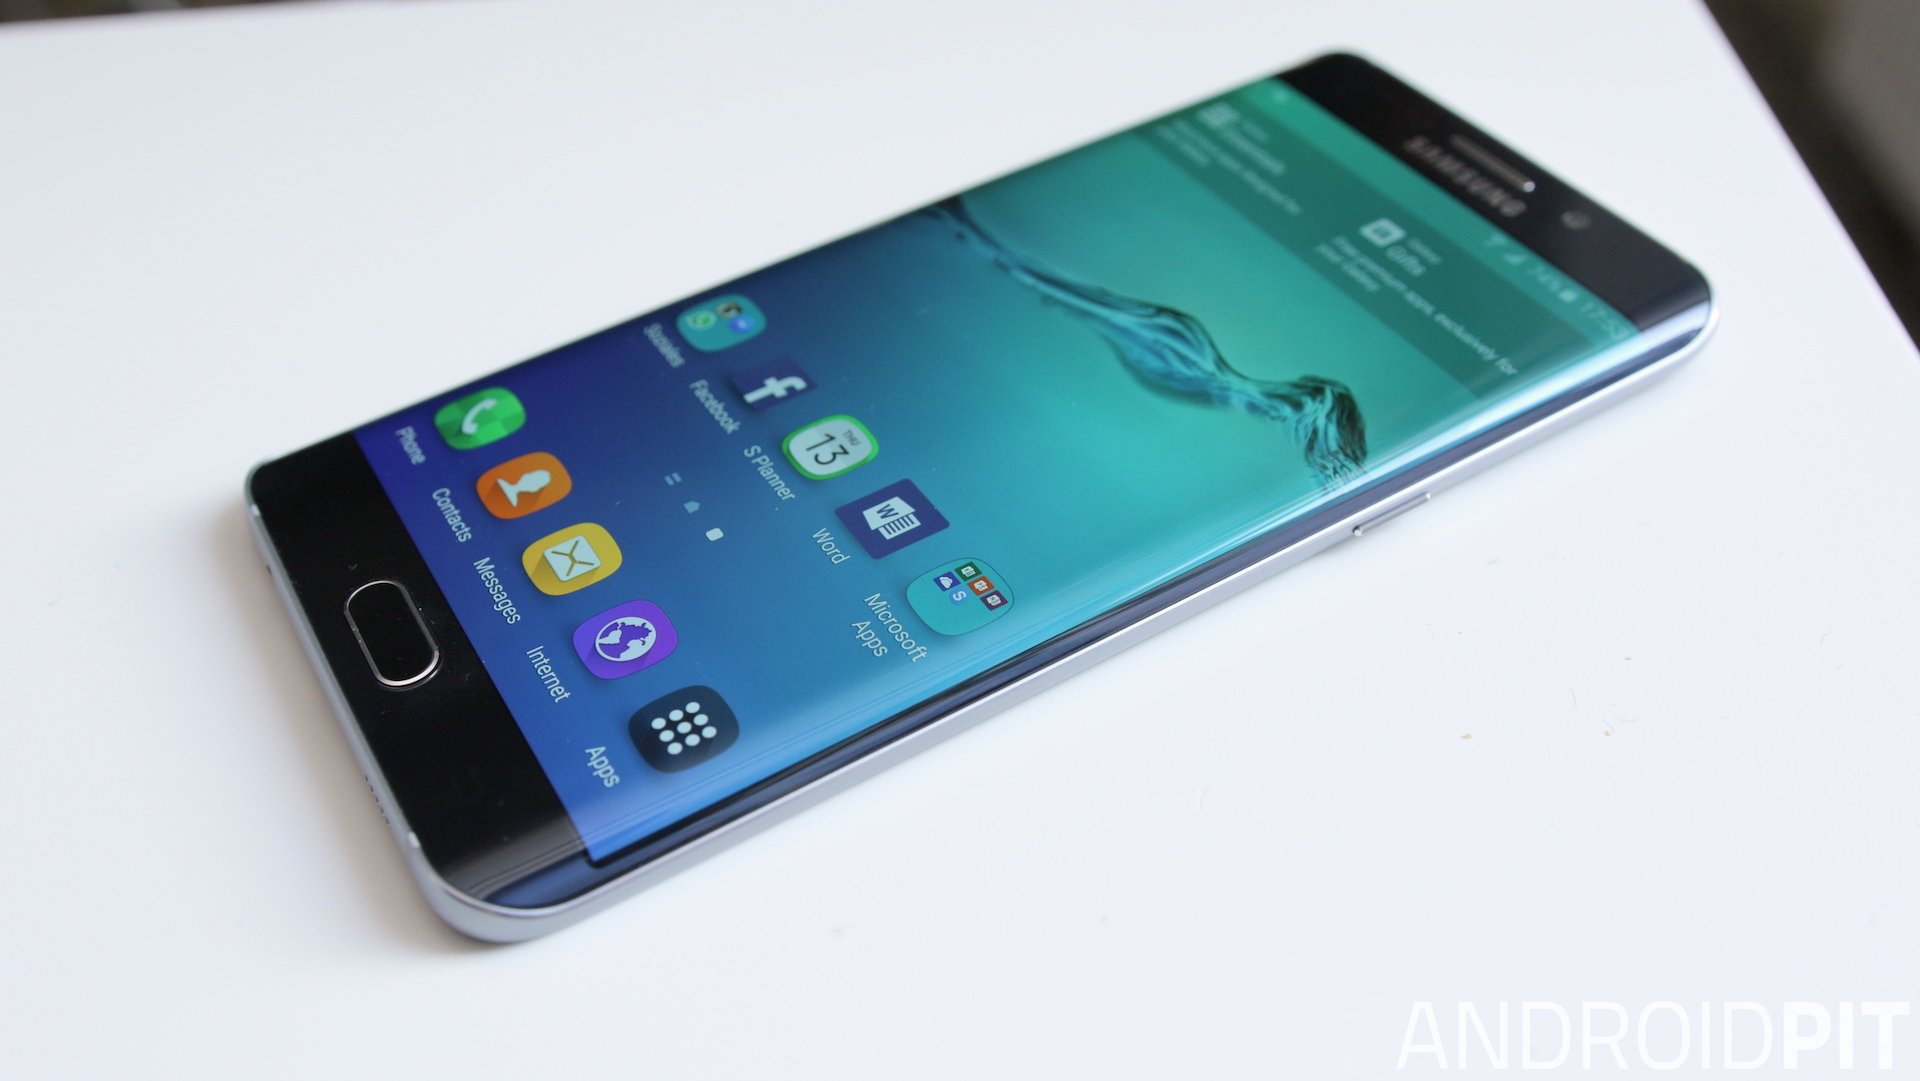smartphone: (239, 45, 1726, 952)
